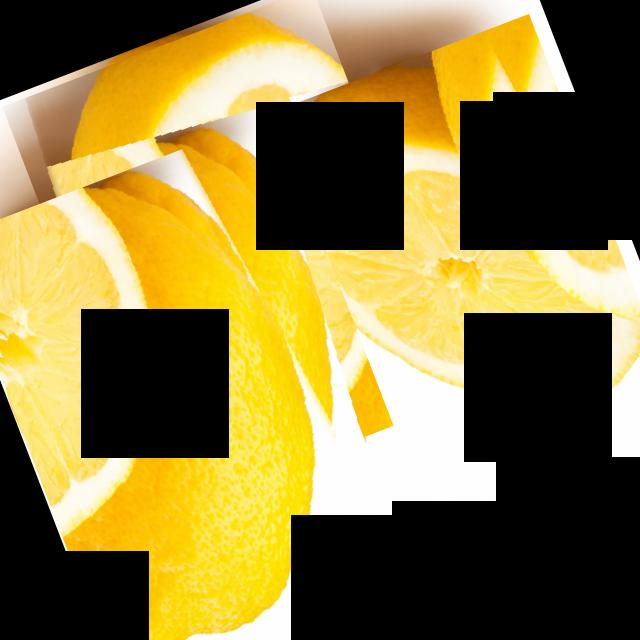lemon: (2, 0, 469, 515), (0, 125, 422, 640), (273, 13, 640, 473)
